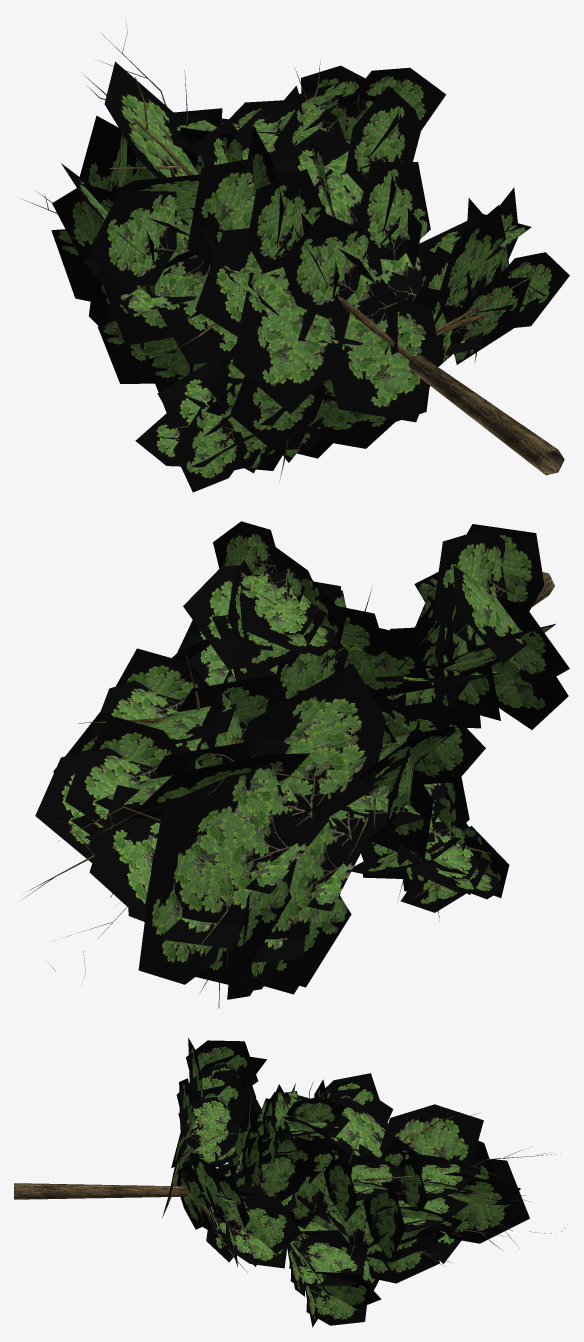
File: Leafy_Tree_1A(Gr).fbx
3 renders of one model, top to bottom at view 1: azimuth 30°, elevation 25°; view 2: azimuth 150°, elevation 25°; view 3: azimuth 270°, elevation 25°, orthographic. The views are drawn at different scales.
Visible parts, largest first — view 1: tree; view 2: tree; view 3: tree.
Part boxes in pixels (x1,y1,x2,y2): tree: (18,19,569,492); tree: (22,521,569,1008); tree: (14,1038,564,1327).
Size of the model in its own units: 896 by 824 by 1812.
